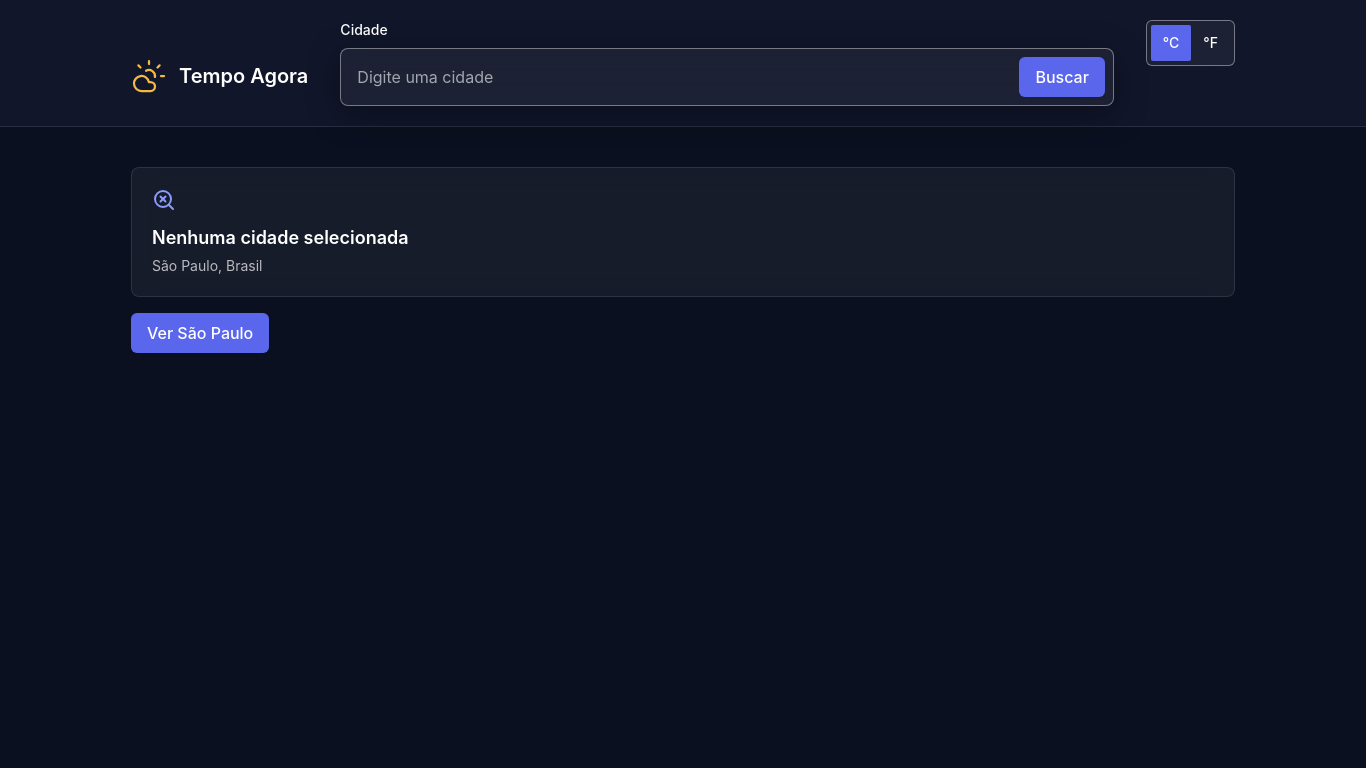
Test case: App › informa quando não há cidades e não mantém métricas antigas
Click the button "Ver São Paulo".
click(200, 333)  # box top-left (131, 313), bottom-right (269, 353)
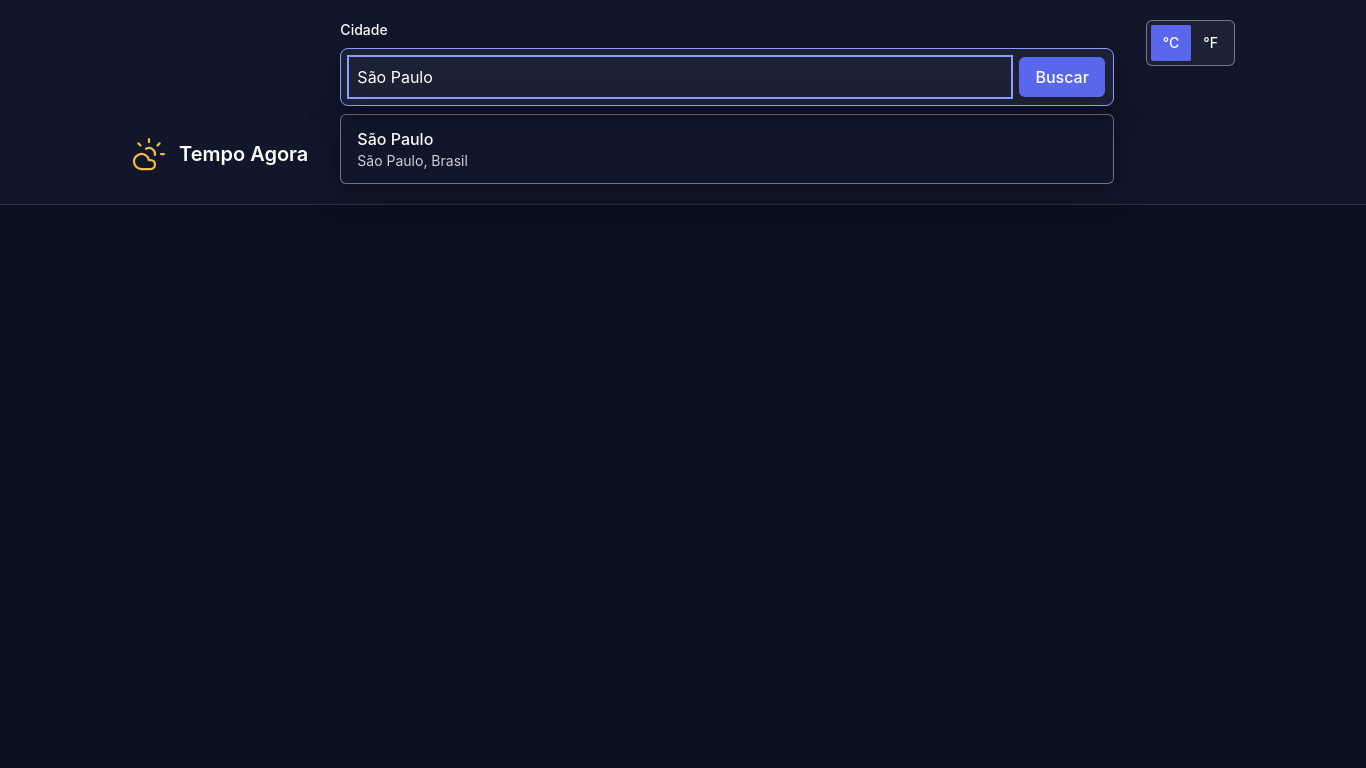
Click the option "São Paulo São Paulo, Brasil".
click(395, 139)  # box top-left (341, 115), bottom-right (1113, 183)
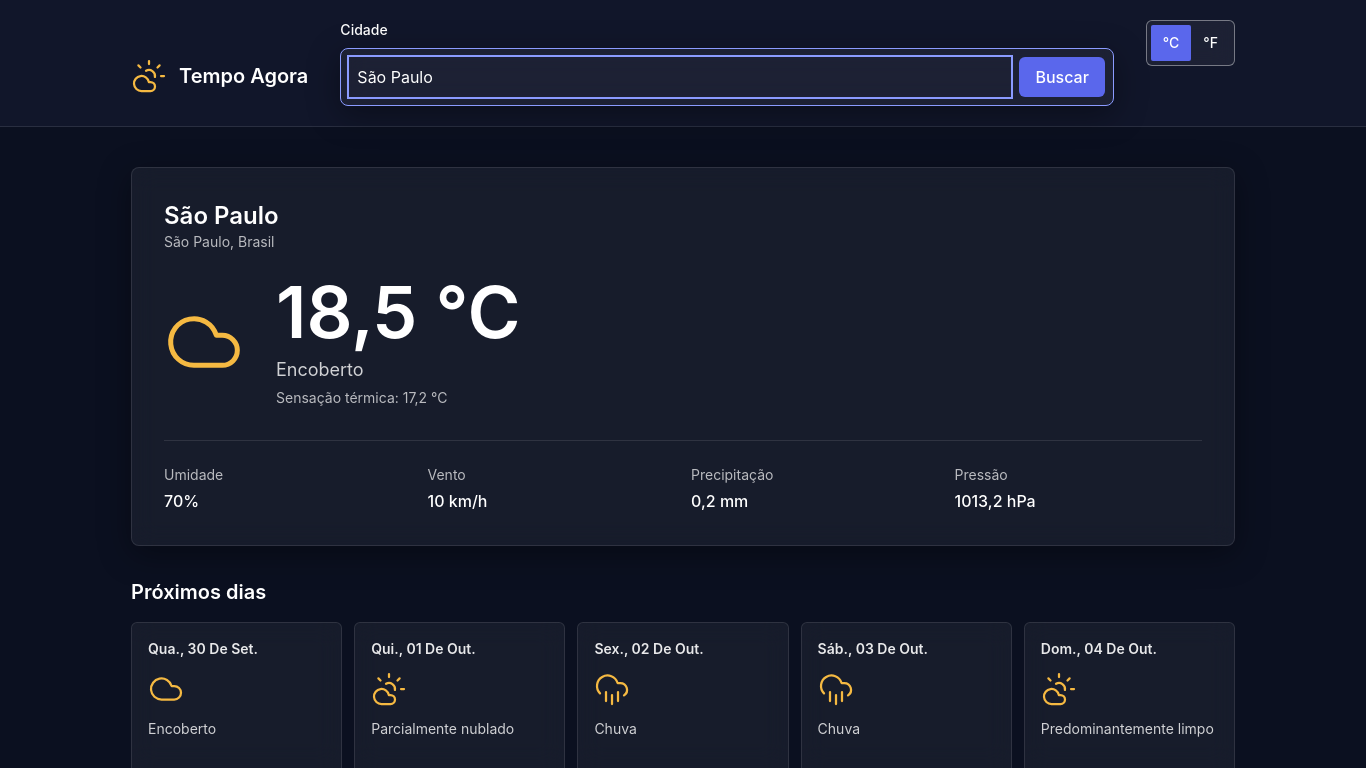
Result: the dropdown labelled "Cidade" holds "São Paulo"
Result: the element named "Clima atual" is shown at top-left (131, 167), bottom-right (1235, 546)
Replace the text in the dropdown labelled "Cidade" with "Rio de Janeiro" at (680, 77), box top-left (349, 57), bottom-right (1012, 97)
Then press Enter
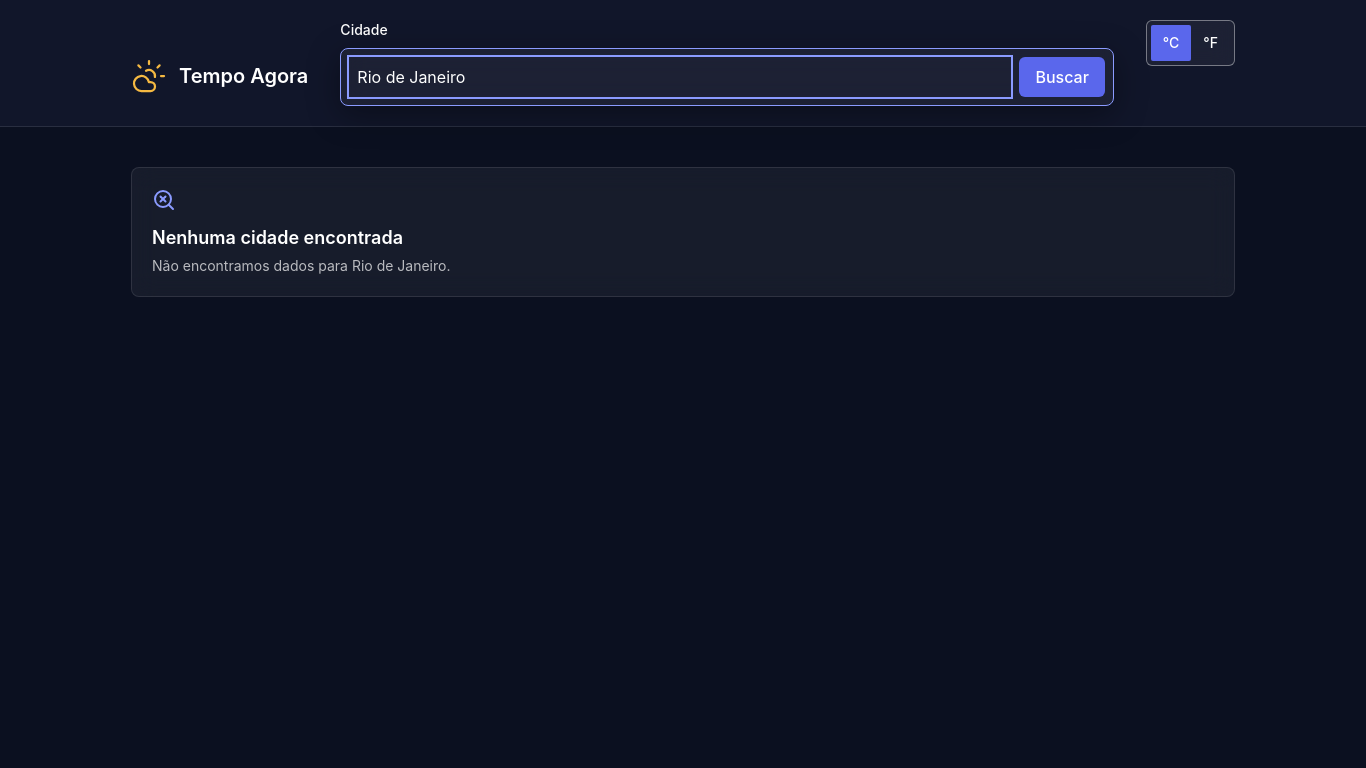
Result: the heading "Nenhuma cidade encontrada" is shown at top-left (152, 227), bottom-right (403, 248)
Result: the text "Não encontramos dados para Rio de Janeiro." is shown at top-left (152, 257), bottom-right (450, 274)
